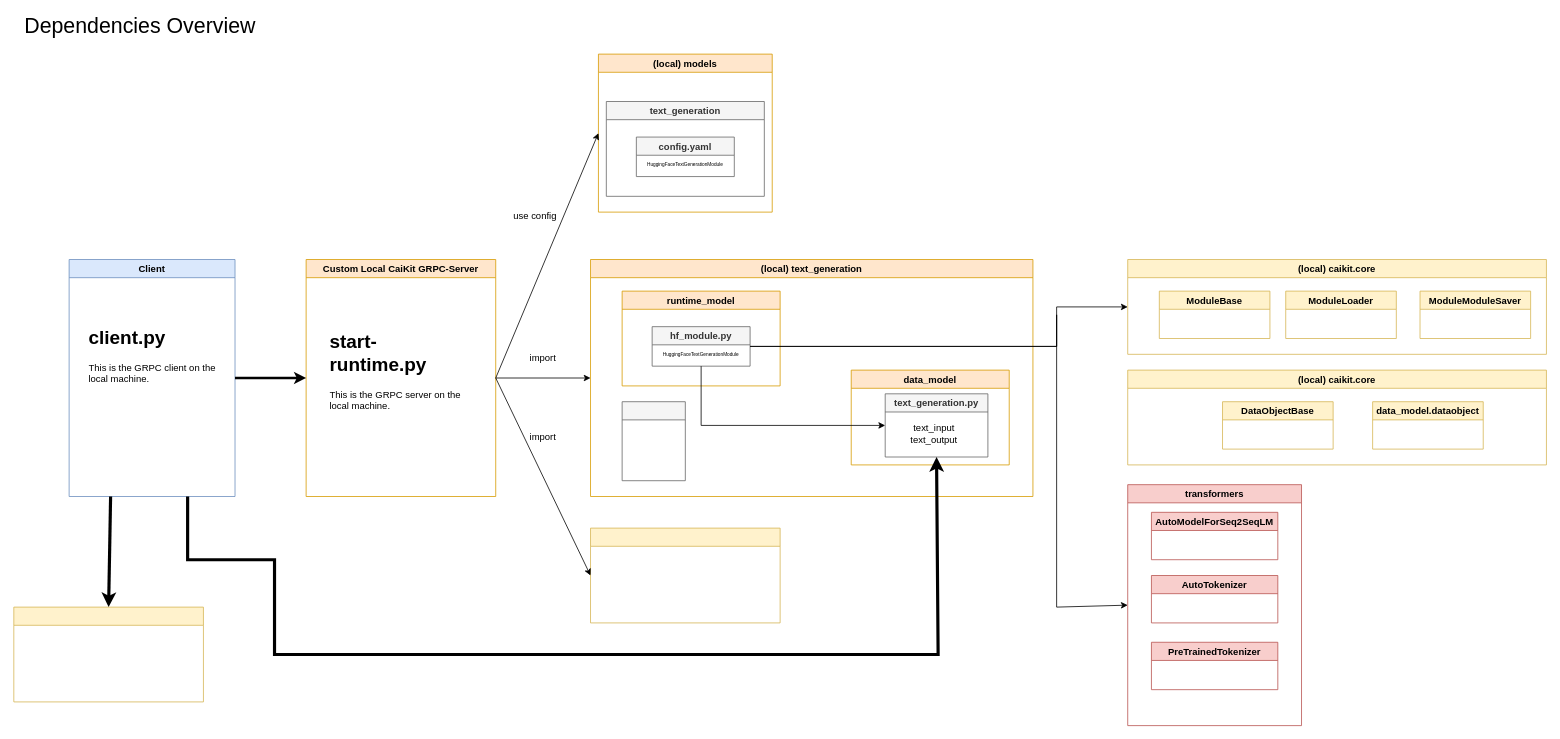
Some shapes in this 1560 by 739 pixel diagram are drawn without their labels. The centre of each missing label's shape, as x and y in pixels:
(local) caikit.runtime.grpc_server: [685,575]
(local) caikit.runtime.service_factory: [108,654]
config.yml: [653,441]
